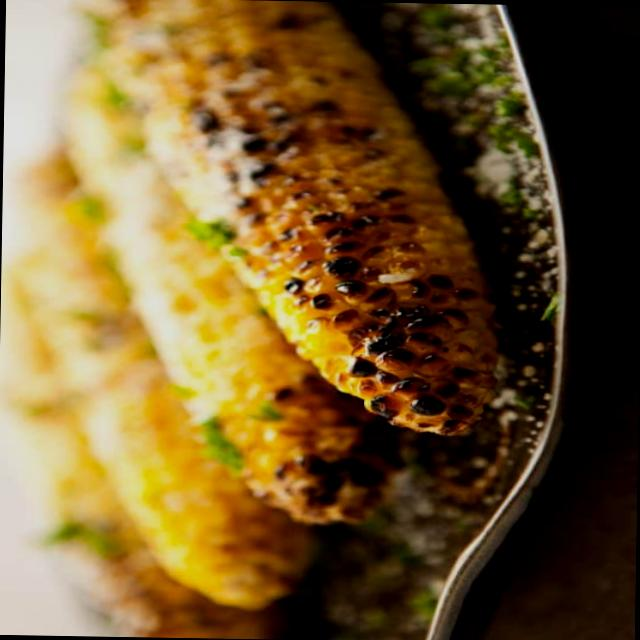corn: (115, 0, 507, 446)
